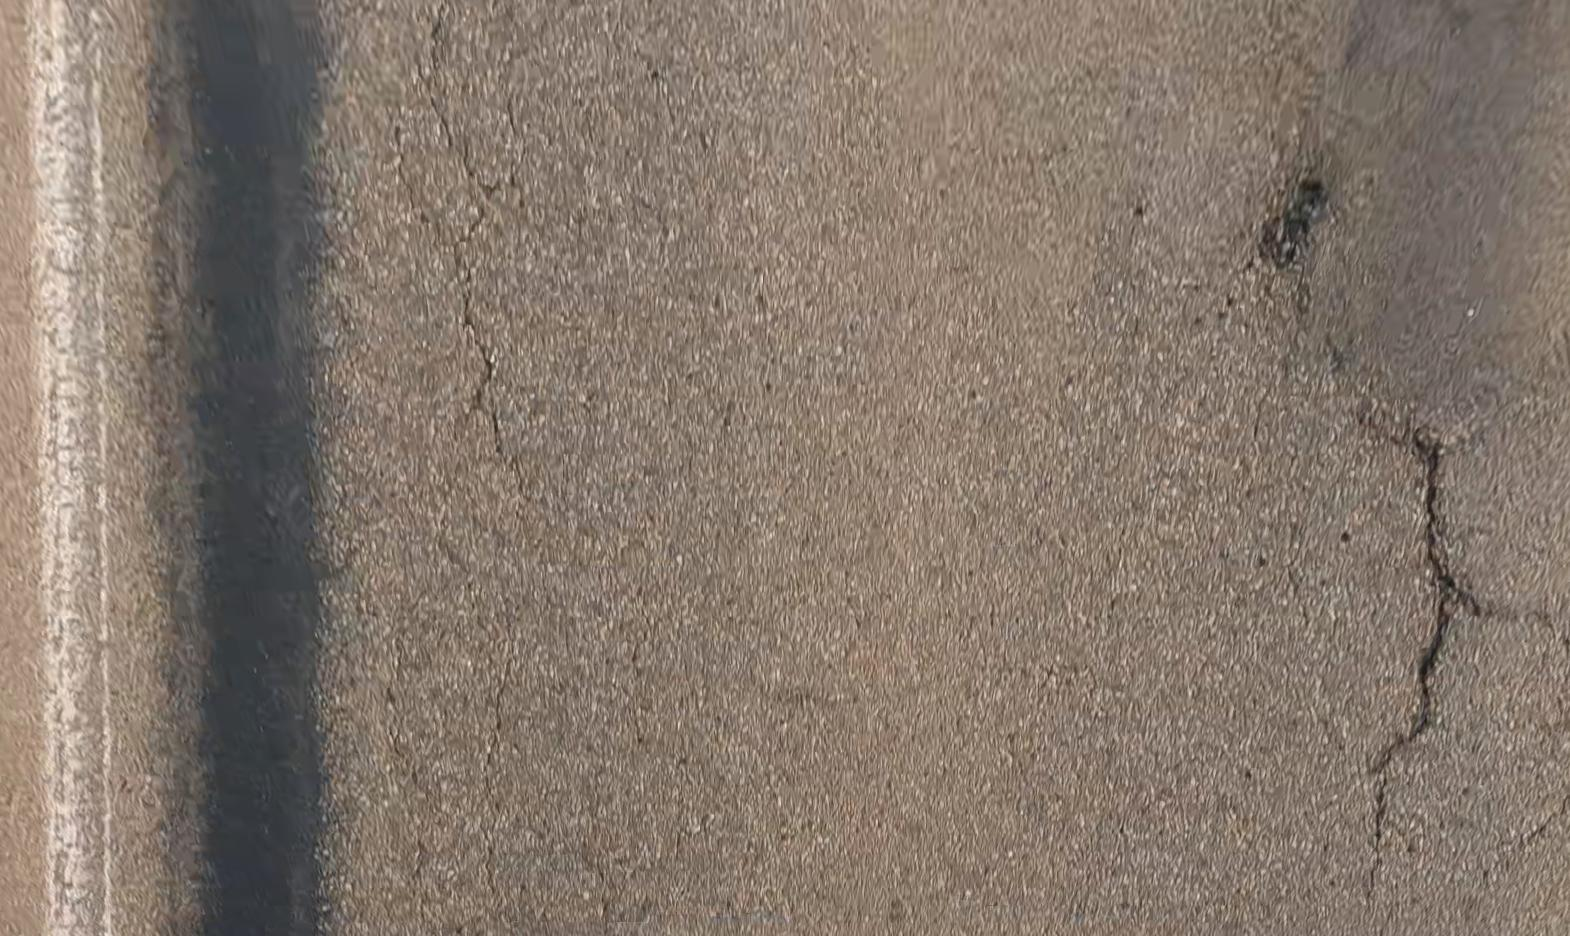pothole: (1262, 178, 1332, 266)
pothole_patch_good: (148, 0, 322, 934), (1307, 1, 1570, 440)
